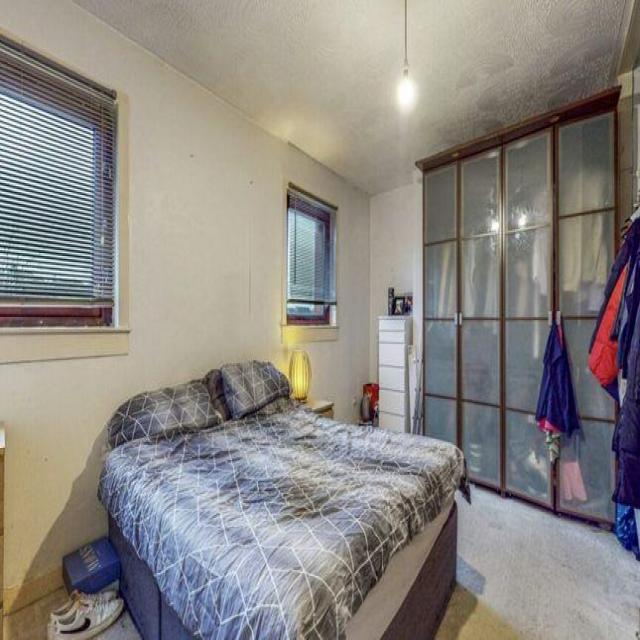Wall: (0, 0, 370, 610), (76, 0, 634, 194), (437, 486, 640, 639), (369, 184, 413, 381), (4, 589, 64, 639), (96, 611, 139, 638)
